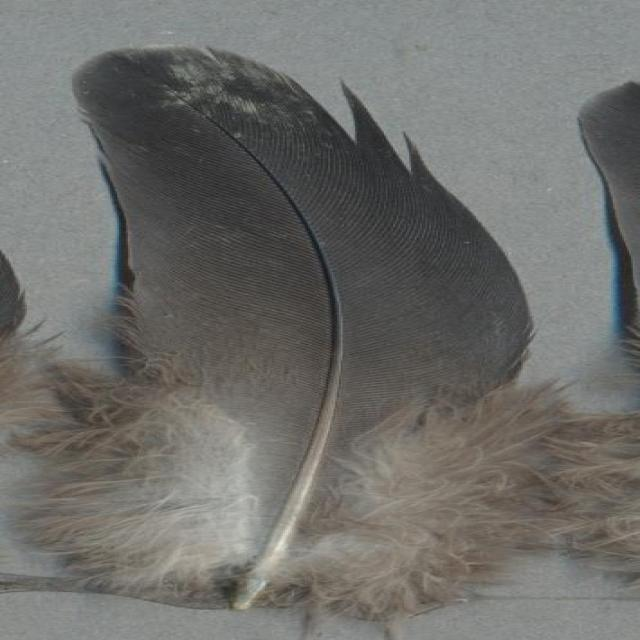feather: (18, 47, 606, 615)
